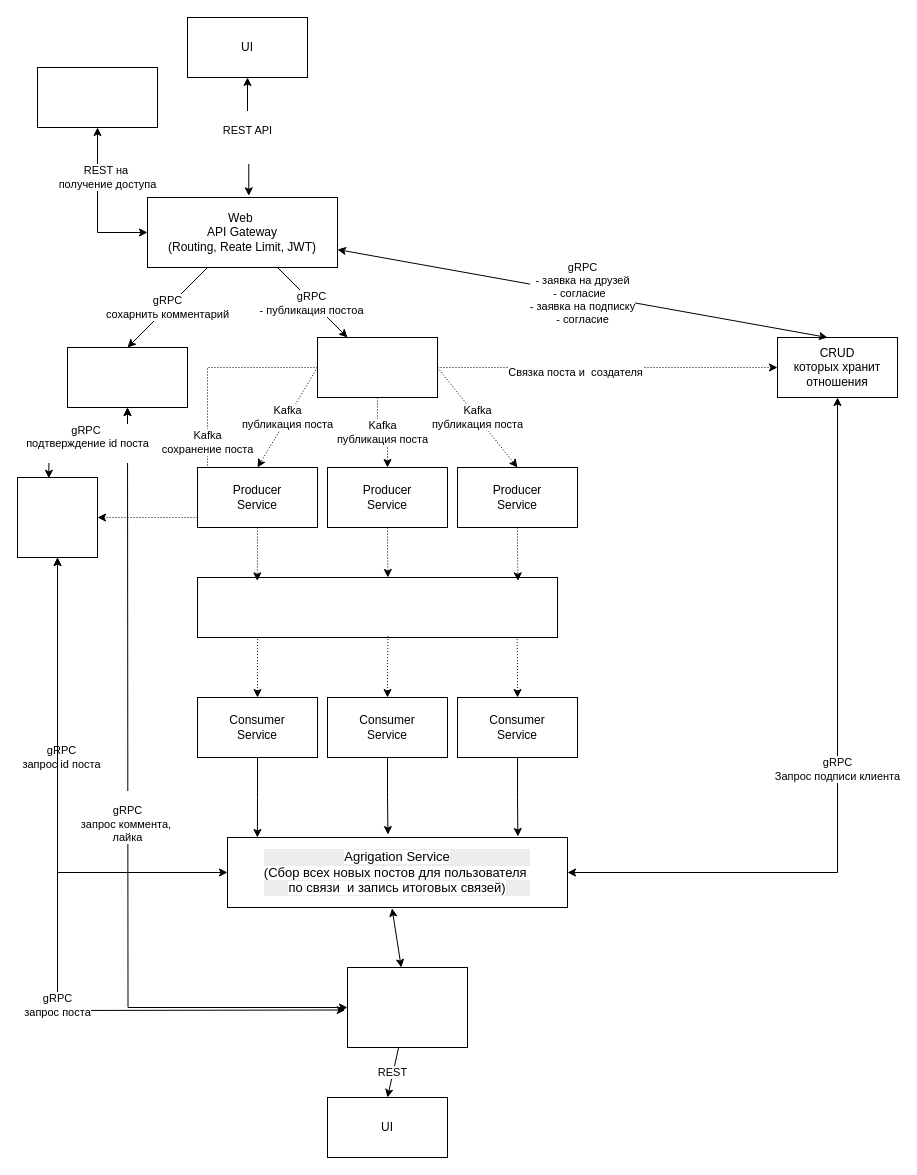
Image size: 917x1175. Some labels were removed from this diagram. Each missing label, with the box of its shape:
Cache L2 Redis: (316, 336, 438, 398)
Claster kafka: (196, 576, 558, 638)
Comment Service (NoSql сохранить коммент): (66, 346, 188, 408)
JWT/Регистрация: (36, 66, 158, 128)
News Service (обработка и выдача новостей): (346, 966, 468, 1048)
NO SQL DB MongoDB: (16, 476, 98, 558)
